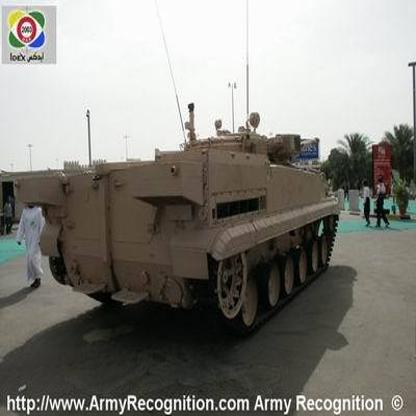Tank: (9, 109, 344, 339)
